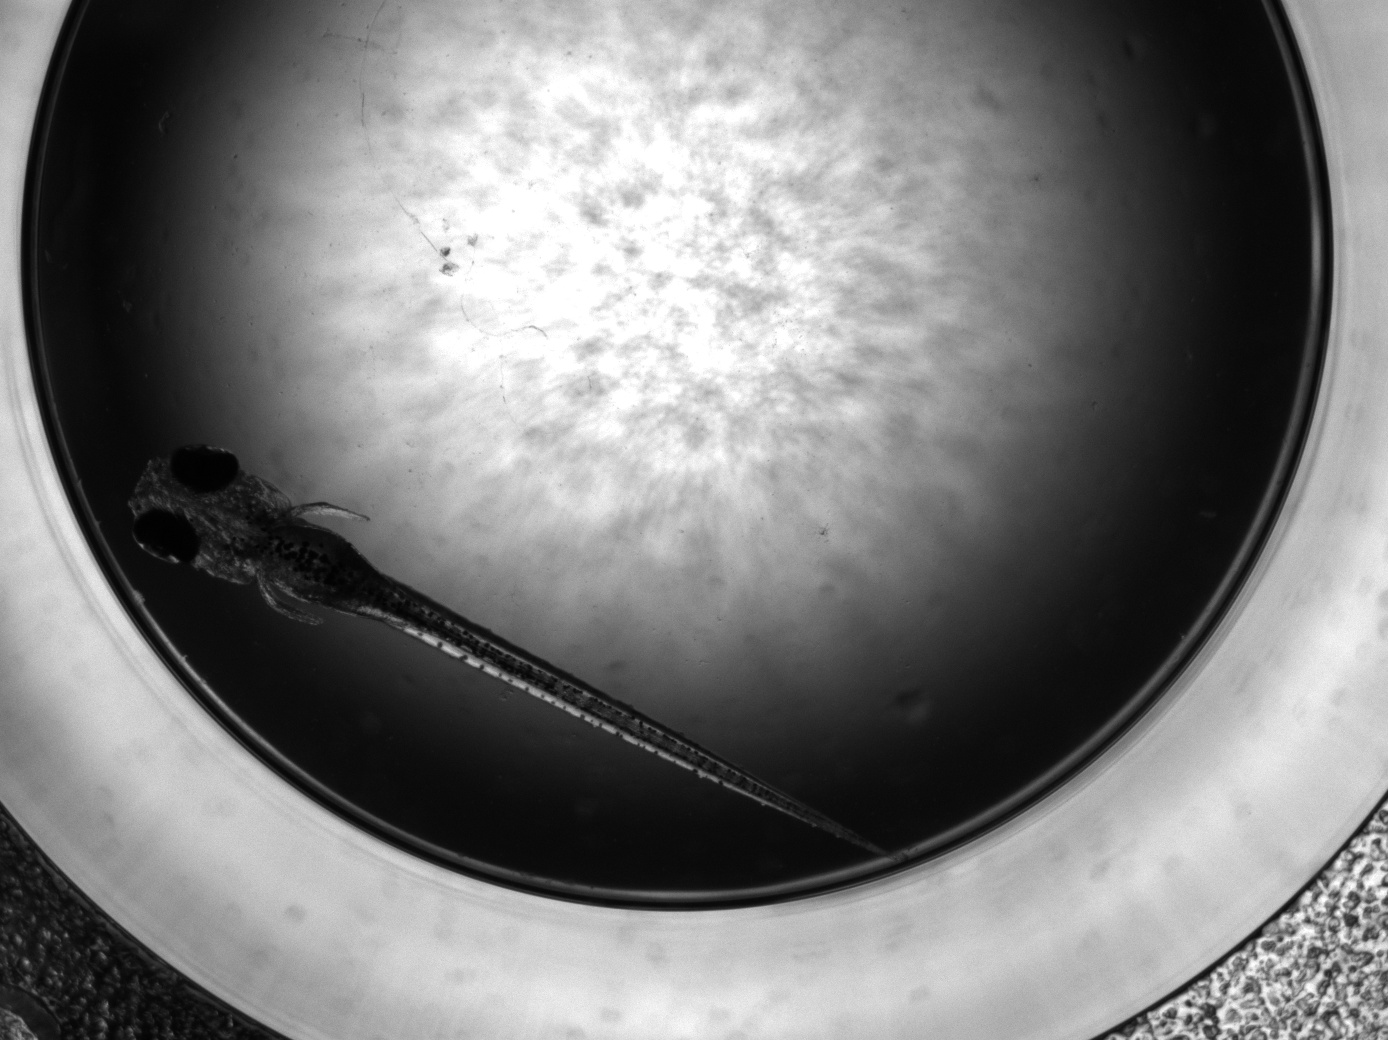embryo: (127, 445, 913, 867)
eye: (133, 510, 201, 567), (168, 445, 239, 496)
yolksac: (258, 524, 382, 611)
